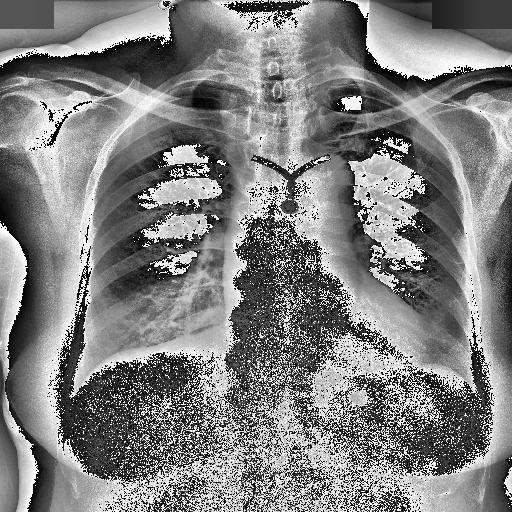0- Aortic enlargement: (285, 152, 357, 224), (286, 150, 356, 218), (295, 154, 355, 212)
11- Pleural thickening: (163, 76, 239, 90), (306, 74, 368, 84)
3- Cardiomegaly: (223, 302, 430, 376), (222, 305, 430, 366)
